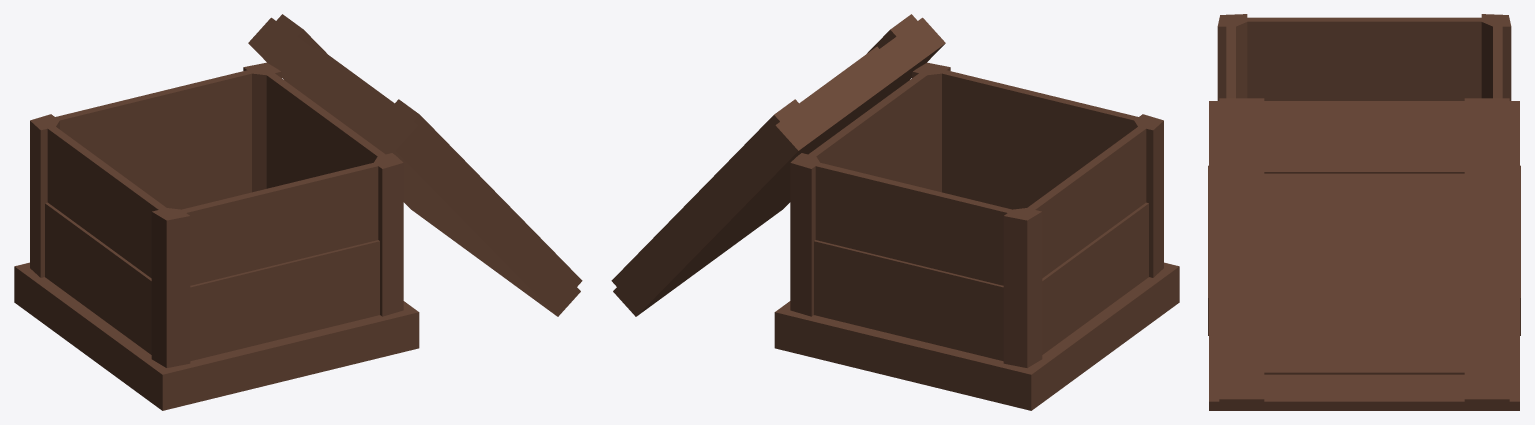
The model's file is woodbox_2.fbx.
The picture shows the model from 3 angles, left to right: view 1: azimuth 30°, elevation 25°; view 2: azimuth 150°, elevation 25°; view 3: azimuth 270°, elevation 25°; orthographic projection. The views are drawn at different scales.
Parts seen in each view (by area): view 1: Wood_box_2; view 2: Wood_box_2; view 3: Wood_box_2.
Boxes of the visible parts, x1=… form: Wood_box_2: x1=14, y1=14, x2=582, y2=410; Wood_box_2: x1=611, y1=14, x2=1179, y2=410; Wood_box_2: x1=1208, y1=14, x2=1520, y2=410.
Size of the model in its own units: 273 by 142 by 165.
